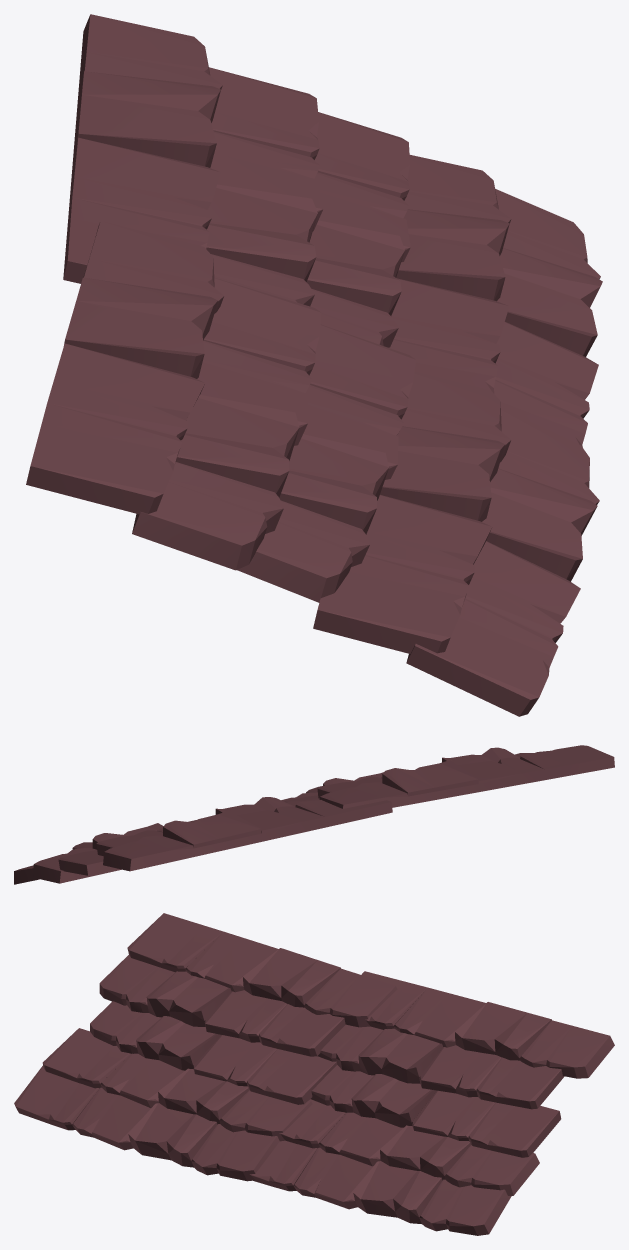
The model's file is RedBackRoof.fbx.
3 renders of one model, top to bottom at view 1: azimuth 30°, elevation 25°; view 2: azimuth 150°, elevation 25°; view 3: azimuth 270°, elevation 25°, orthographic. The views are drawn at different scales.
Parts seen in each view (by area): view 1: RedBackRoof_Merged; view 2: RedBackRoof_Merged; view 3: RedBackRoof_Merged.
Part boxes in pixels (<box>): RedBackRoof_Merged: <box>26,14,602,716</box>; RedBackRoof_Merged: <box>14,745,614,884</box>; RedBackRoof_Merged: <box>14,913,614,1235</box>.
Bounding box in the file's own units: 533 × 139 × 640.
